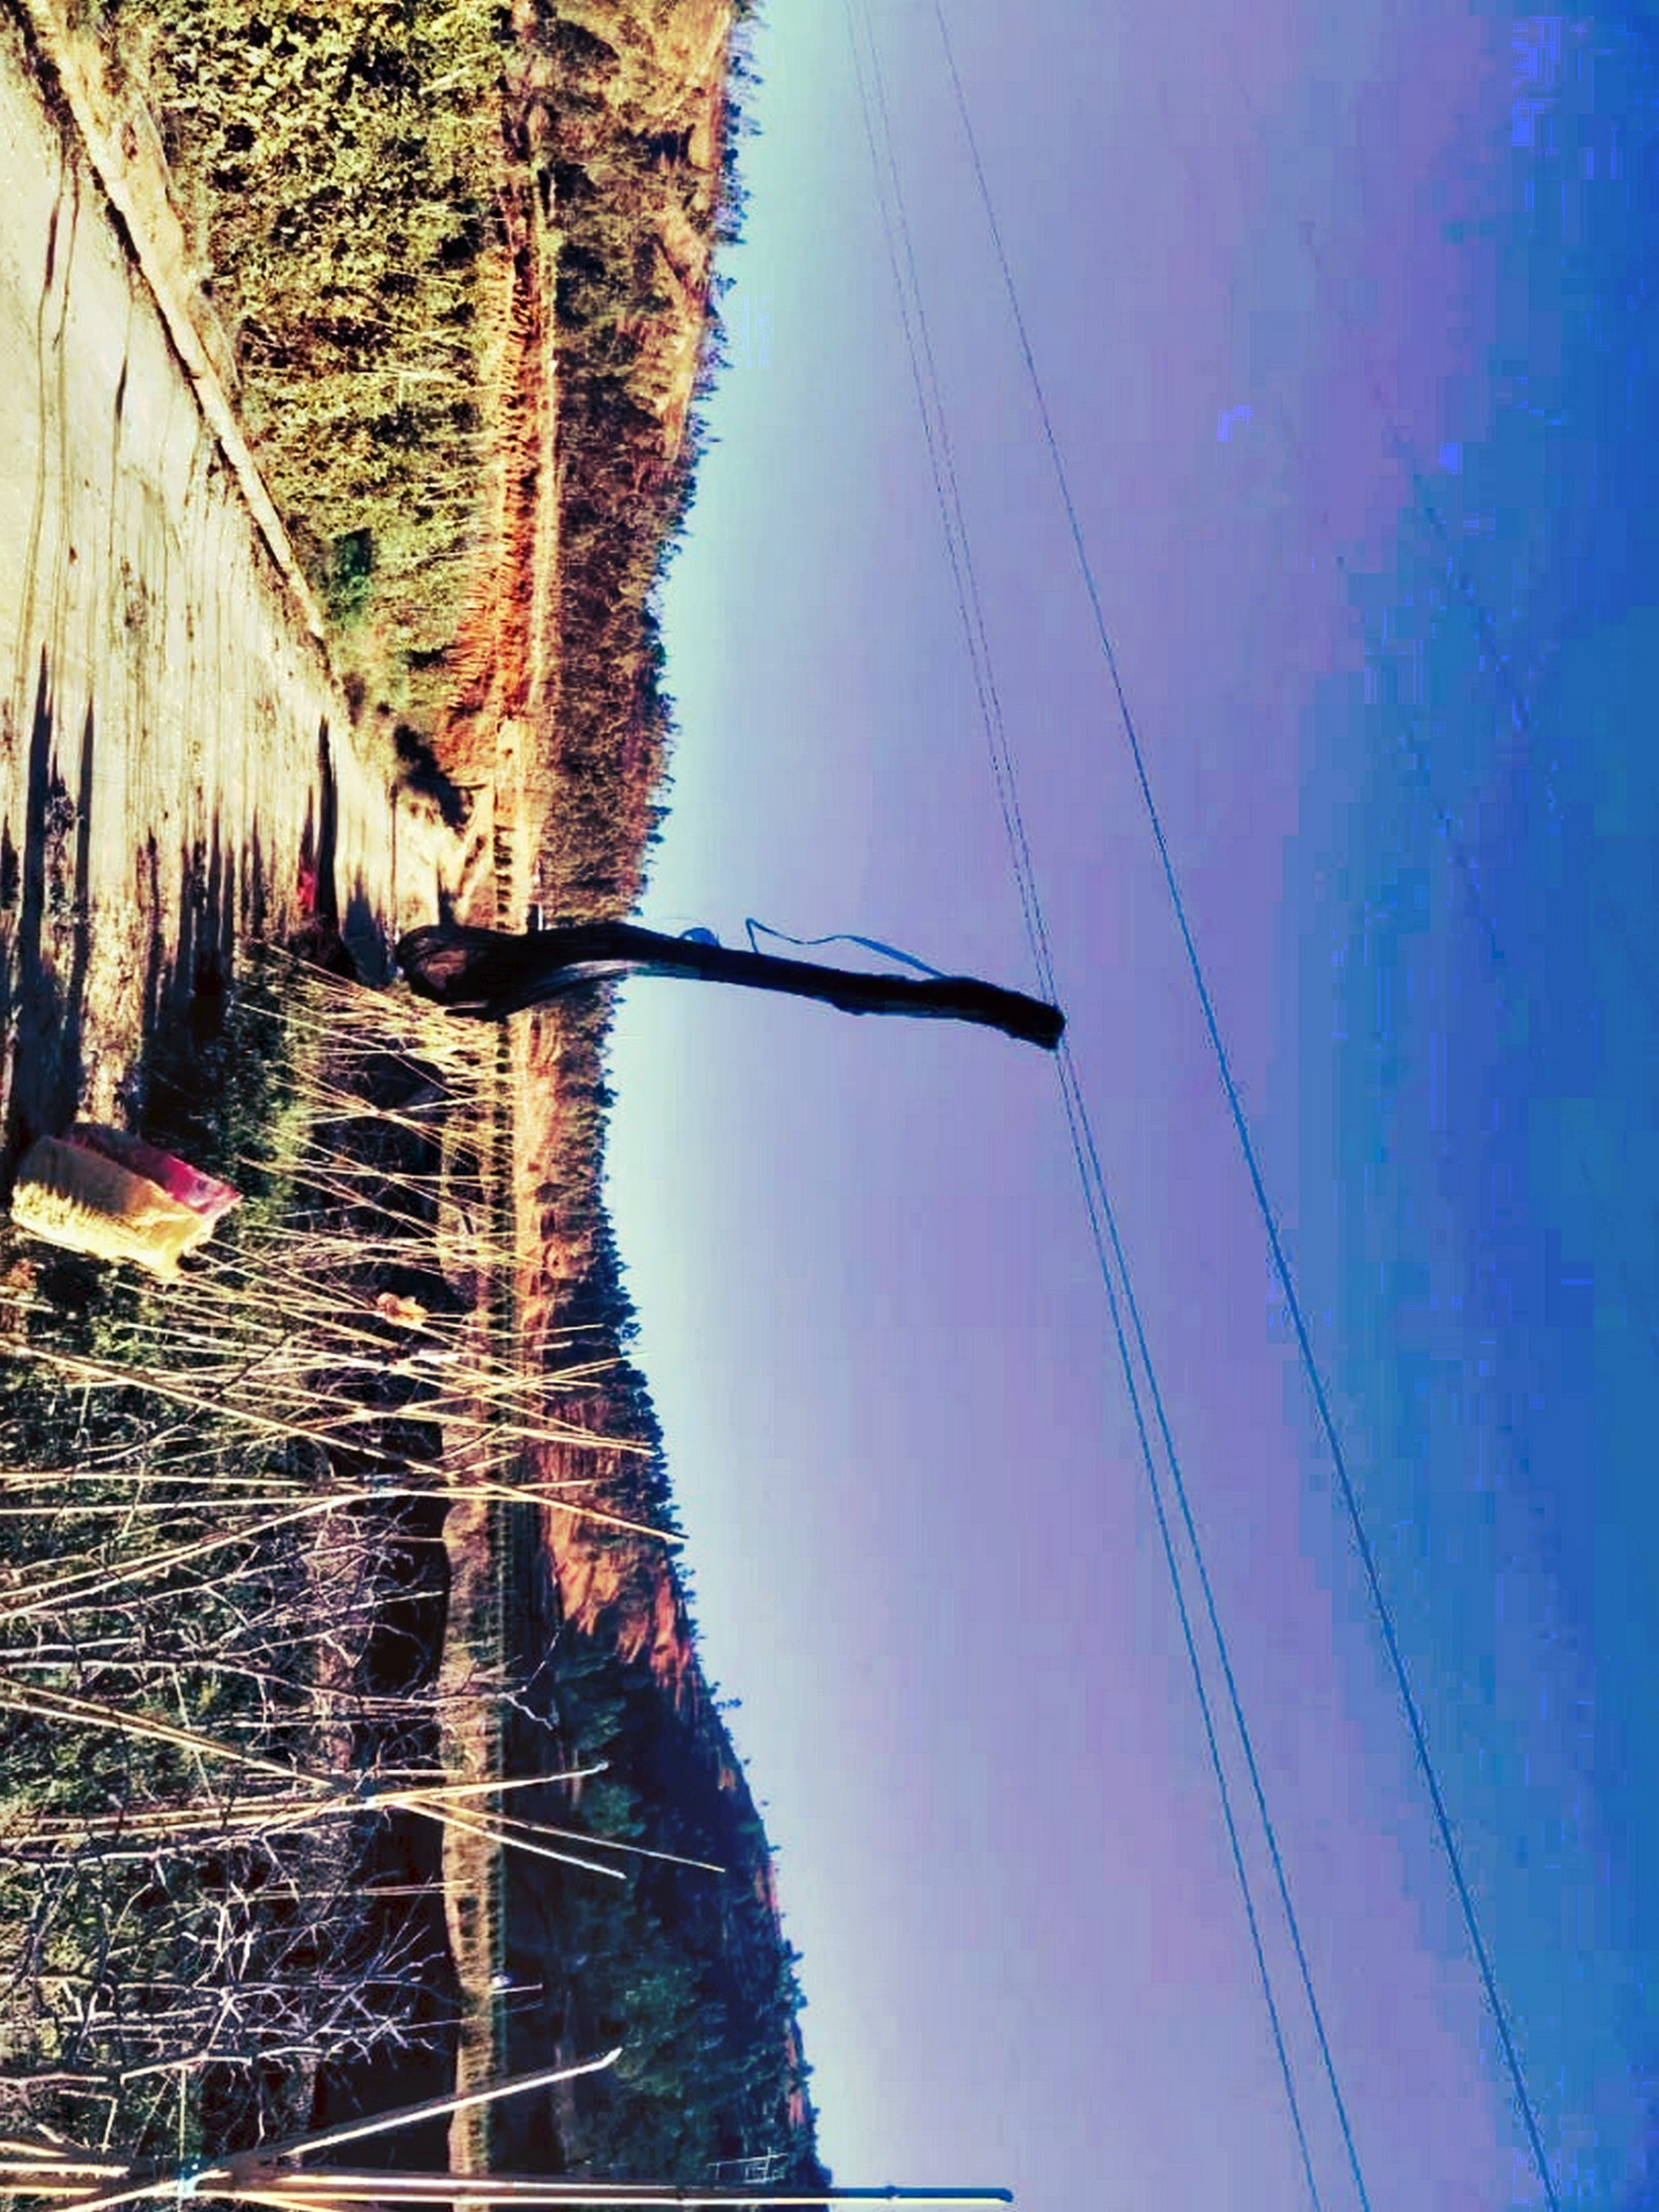wire foreign body: (385, 867, 1121, 1092)
